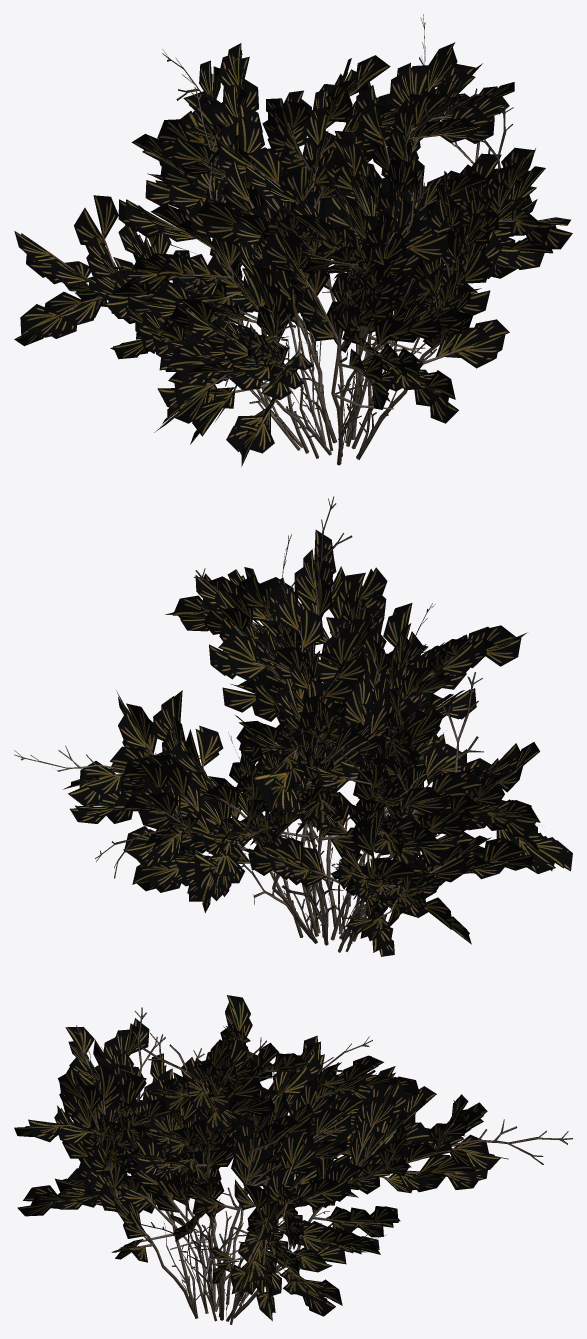
The model's file is prop_bush_rooibos_a.glb.
3 renders of one model, top to bottom at view 1: azimuth 30°, elevation 25°; view 2: azimuth 150°, elevation 25°; view 3: azimuth 270°, elevation 25°, orthographic. The views are drawn at different scales.
Parts seen in each view (by area): view 1: wild_rooibos_bush_a; view 2: wild_rooibos_bush_a; view 3: wild_rooibos_bush_a.
Part boxes in pixels (x1,y1,x2,y2): wild_rooibos_bush_a: (14, 14, 572, 466); wild_rooibos_bush_a: (14, 496, 572, 956); wild_rooibos_bush_a: (14, 995, 572, 1324).
Bounding box in the file's own units: 0.6966 × 0.5395 × 0.8434.
3 materials, 3 textured.
